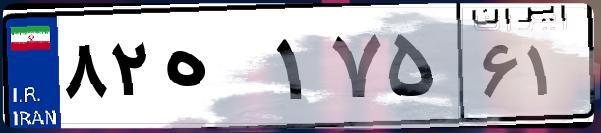1: (270, 28, 330, 110), (525, 38, 570, 115)
2: (110, 28, 158, 98)
5: (385, 28, 445, 110)
6: (475, 38, 525, 113)
7: (330, 28, 385, 110)
8: (57, 26, 110, 100)
ه: (158, 20, 270, 120)
